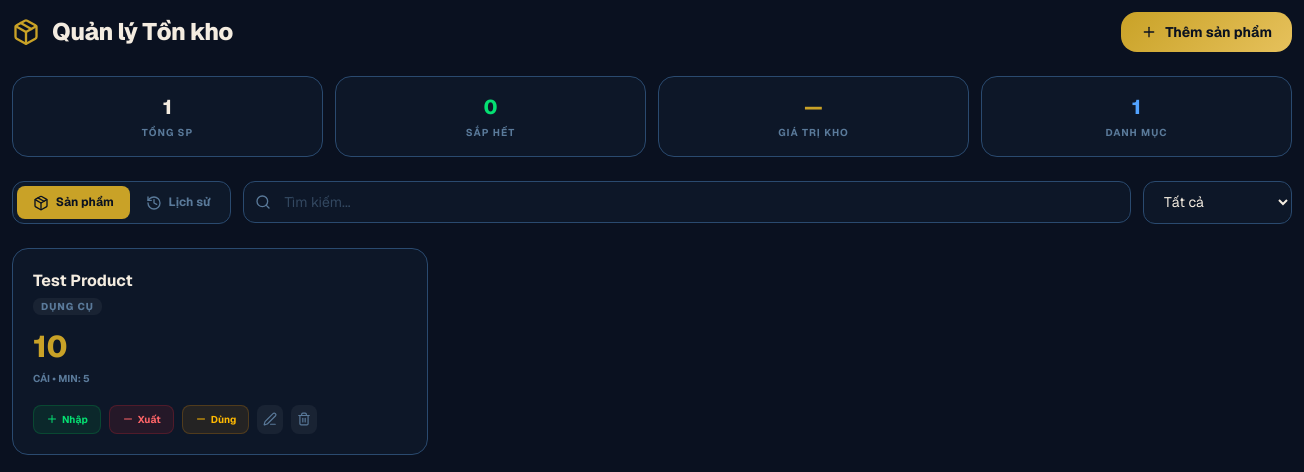
InventoryManagement Component › switches to history view
The width and height of the screenshot is (1304, 472).
Click the button "Lịch sử" at (178, 202), box top-left (130, 186), bottom-right (226, 219)
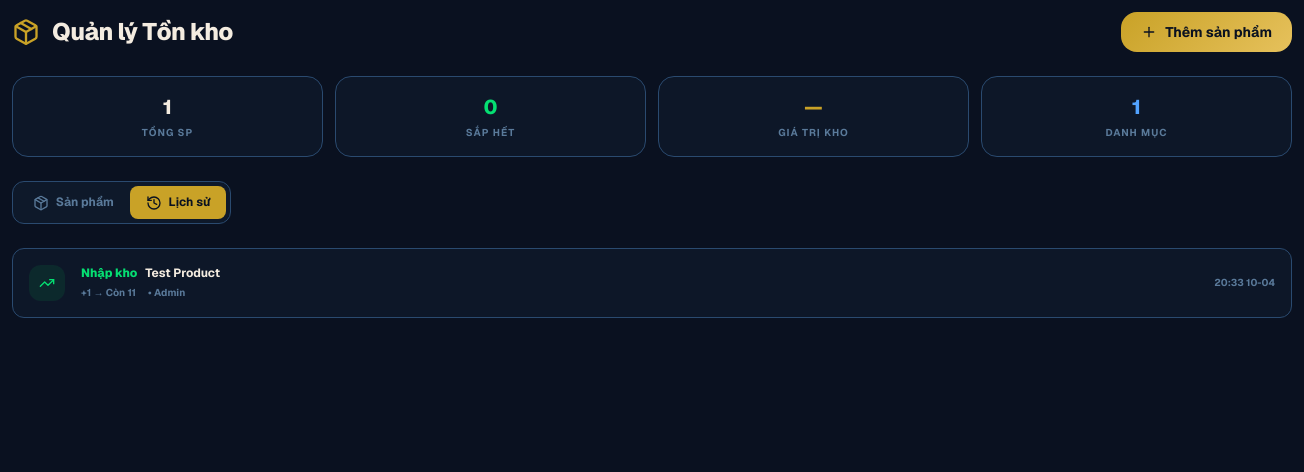
Check: the text "Nhập kho" is shown, box top-left (81, 265), bottom-right (137, 281)
Check: the text "• Admin" is shown, box top-left (148, 285), bottom-right (185, 300)
